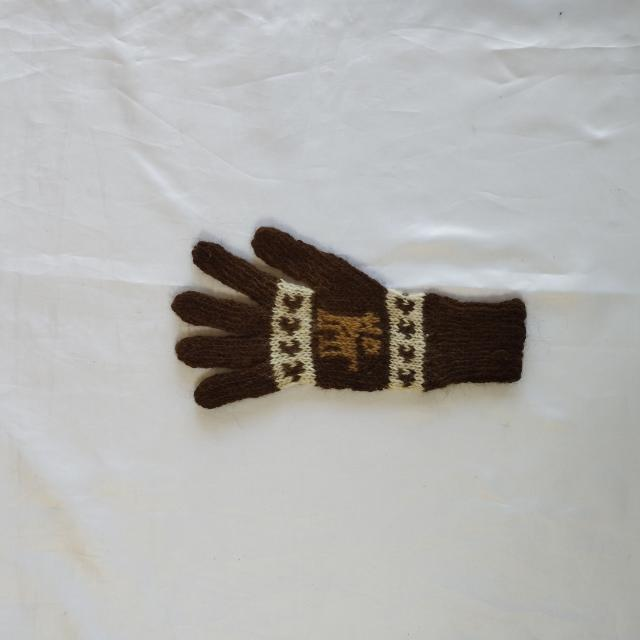Guante: (170, 224, 528, 410)
